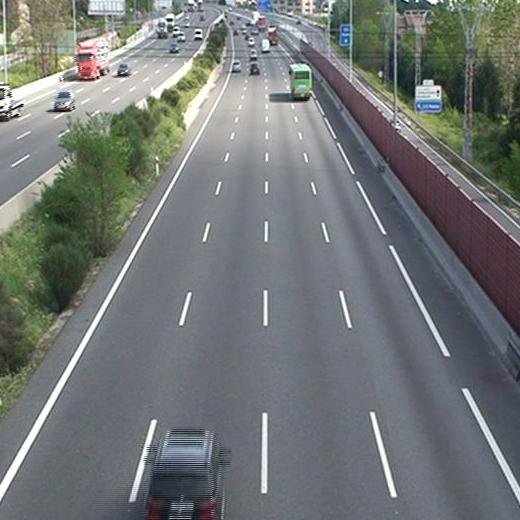bus: (288, 64, 311, 100)
car: (147, 427, 231, 520), (249, 62, 260, 76), (232, 61, 242, 74)
